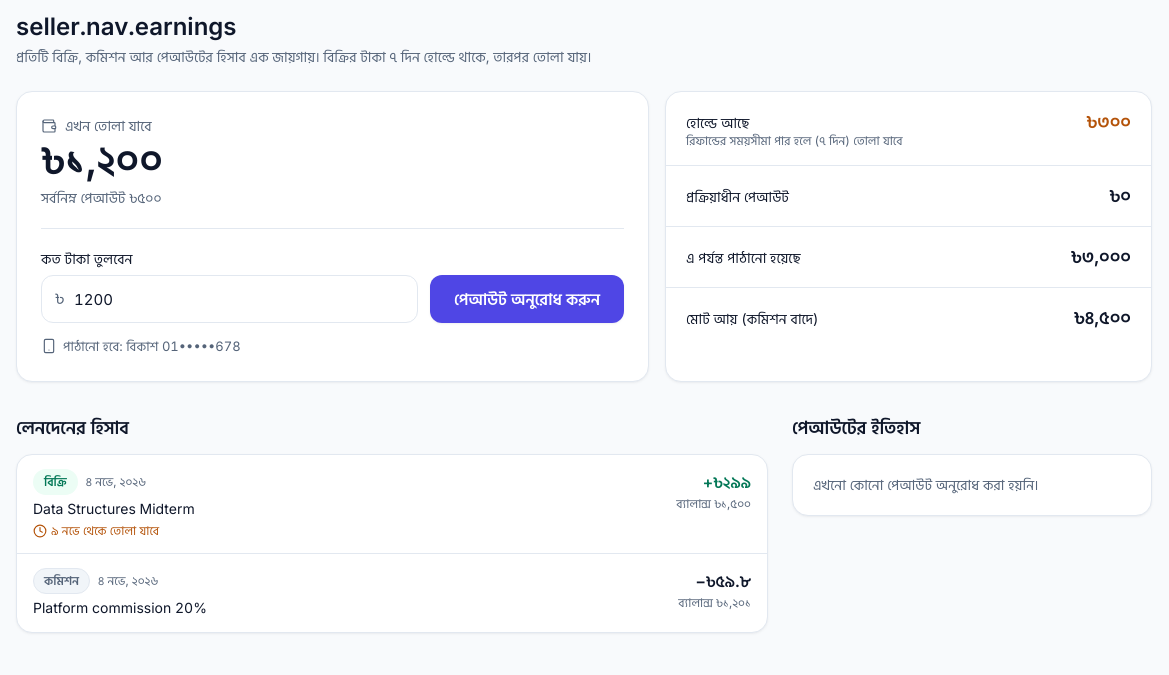
Test: Seller earnings › validates the amount and requests the payout in paisa
Later steps or results of the test are not shown.
Replace the text in the field labelled "কত টাকা তুলবেন" with "৩০০" at {"x": 230, "y": 299}, box [41, 275, 418, 323]
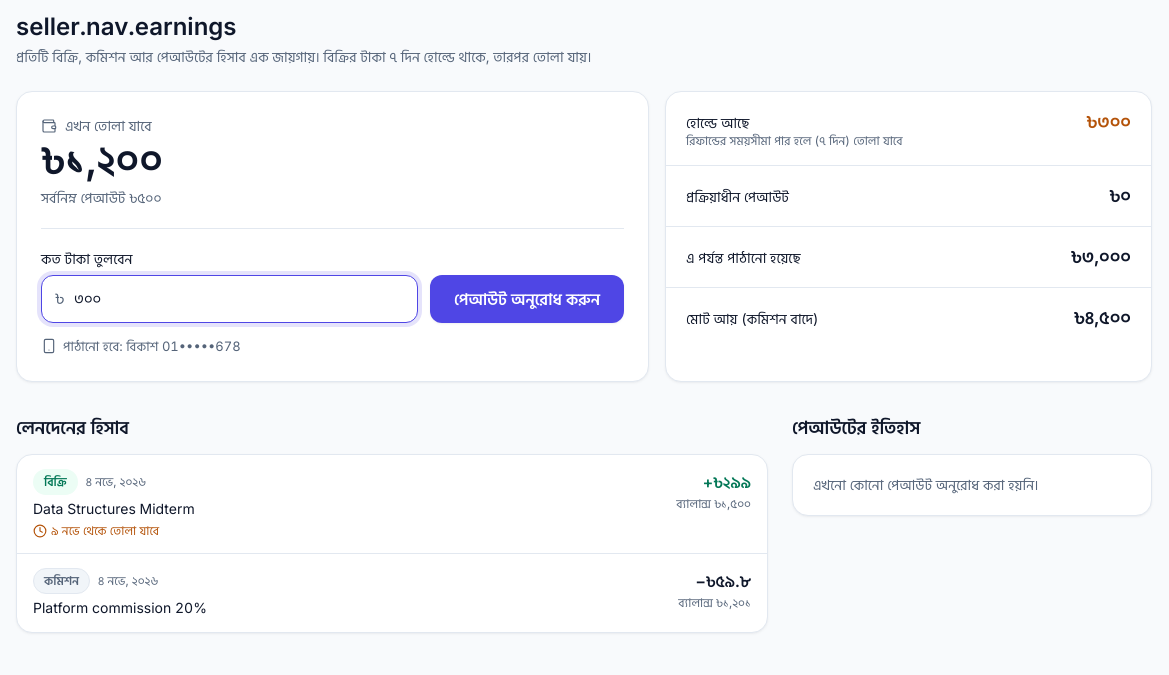
Click the button "পেআউট অনুরোধ করুন" at {"x": 527, "y": 299}, box [430, 275, 624, 323]
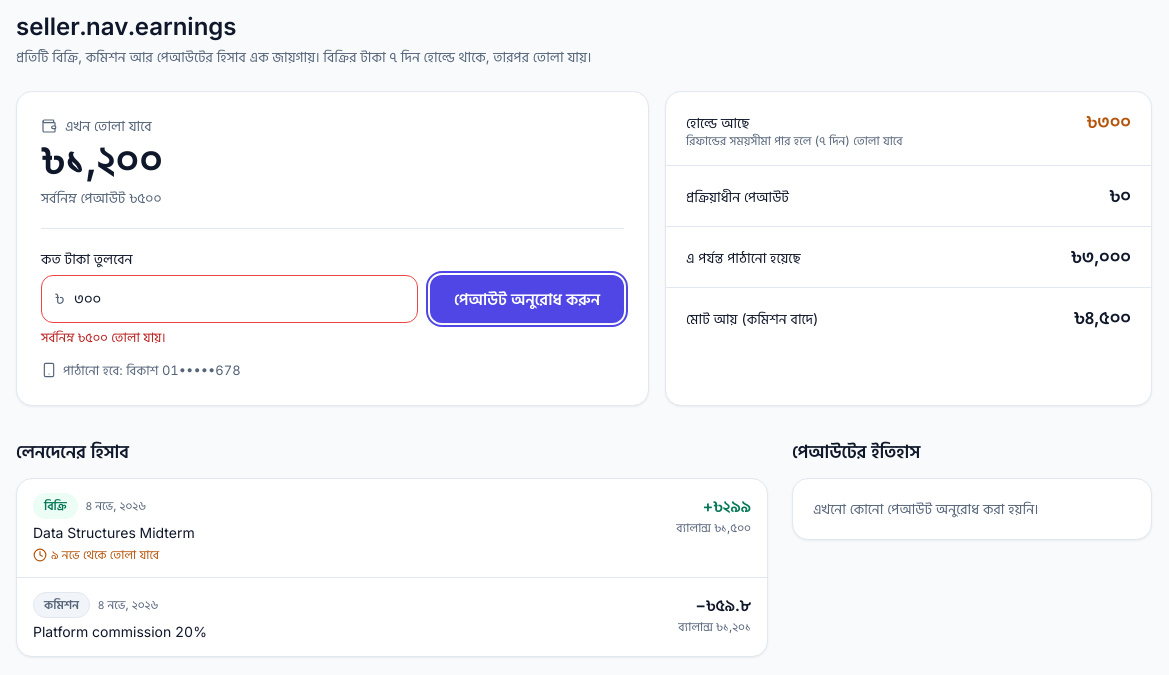
expect the message reads "সর্বনিম্ন ৳৫০০ তোলা যায়।": met, box [41, 329, 166, 345]
Replace the text in the field labelled "কত টাকা তুলবেন" with "5000" at {"x": 230, "y": 299}, box [41, 275, 418, 323]
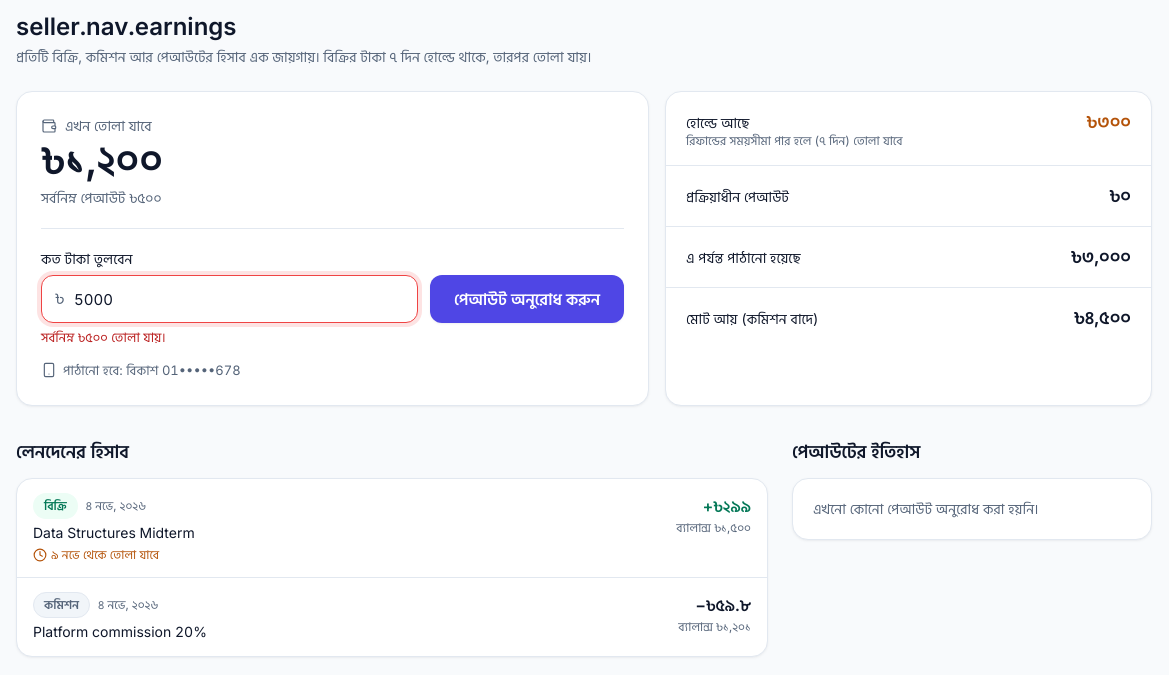
Click the button "পেআউট অনুরোধ করুন" at {"x": 527, "y": 299}, box [430, 275, 624, 323]
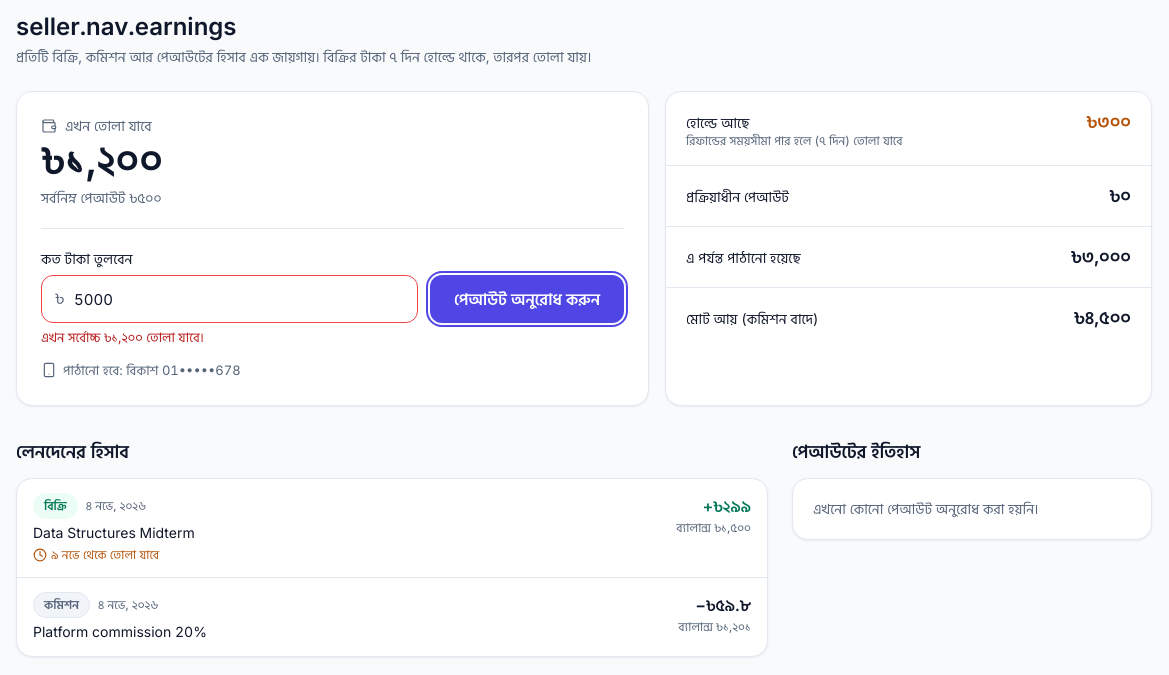
expect the message reads "এখন সর্বোচ্চ ৳১,২০০ তোলা যাবে।": met, box [41, 329, 204, 345]
